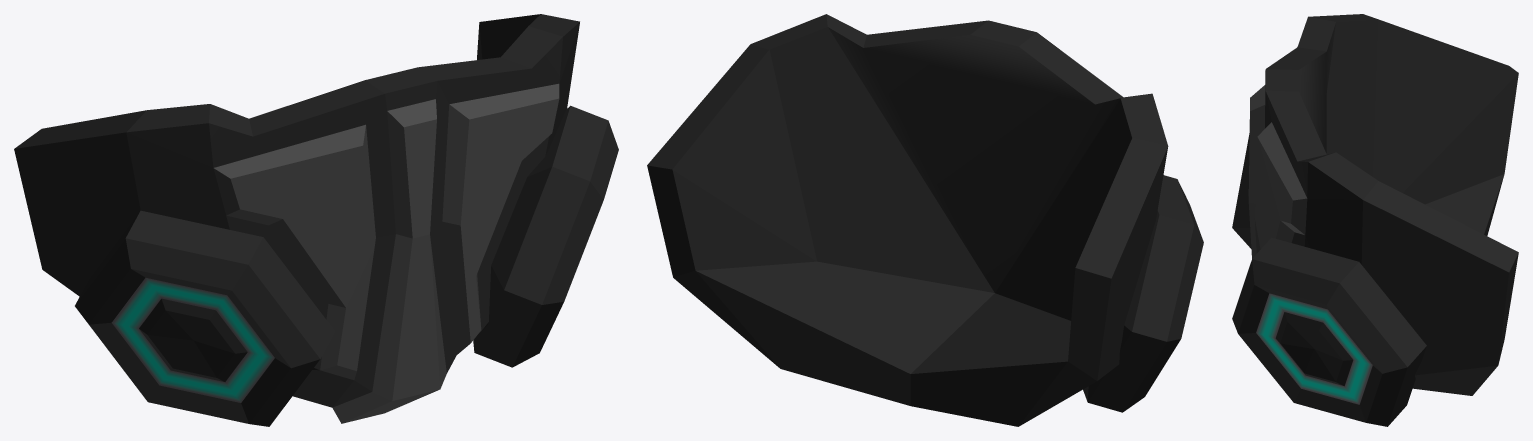
File: SM_Chr_Attach_Mask_Male_01.fbx
The picture shows the model from 3 angles, left to right: view 1: azimuth 30°, elevation 25°; view 2: azimuth 150°, elevation 25°; view 3: azimuth 270°, elevation 25°; orthographic projection. The views are drawn at different scales.
Parts seen in each view (by area): view 1: SM_Chr_Attach_Mask_Male_01; view 2: SM_Chr_Attach_Mask_Male_01; view 3: SM_Chr_Attach_Mask_Male_01.
Part boxes in pixels (bbox=[...]): SM_Chr_Attach_Mask_Male_01: bbox=[14, 14, 618, 426]; SM_Chr_Attach_Mask_Male_01: bbox=[647, 14, 1203, 426]; SM_Chr_Attach_Mask_Male_01: bbox=[1232, 14, 1518, 426].
Bounding box in the file's own units: 23.13 × 16.03 × 13.53.
